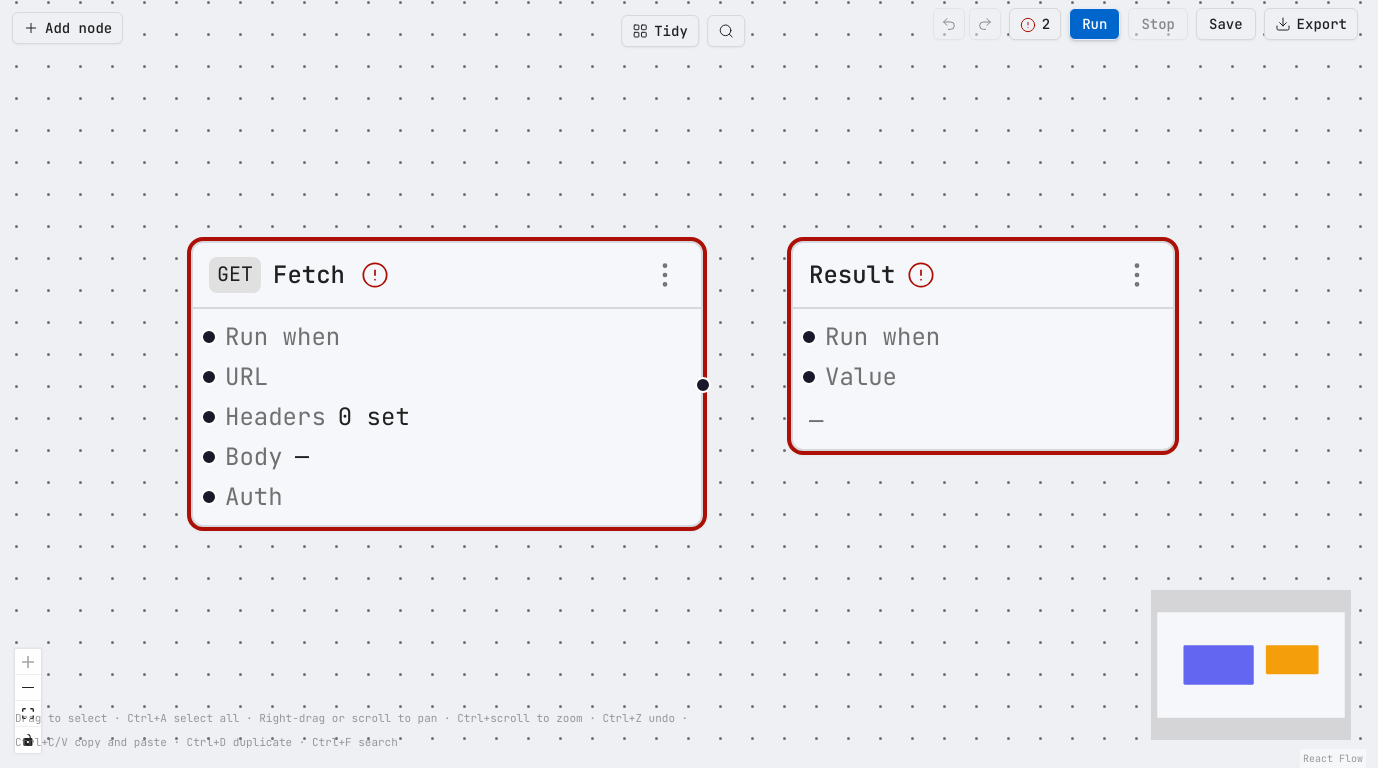
FlowPane run-result wiring › writes the result to the tab that started the run, not the active one
Click the button "Run". click: click(1095, 24)
box: [1069,8,1120,40]
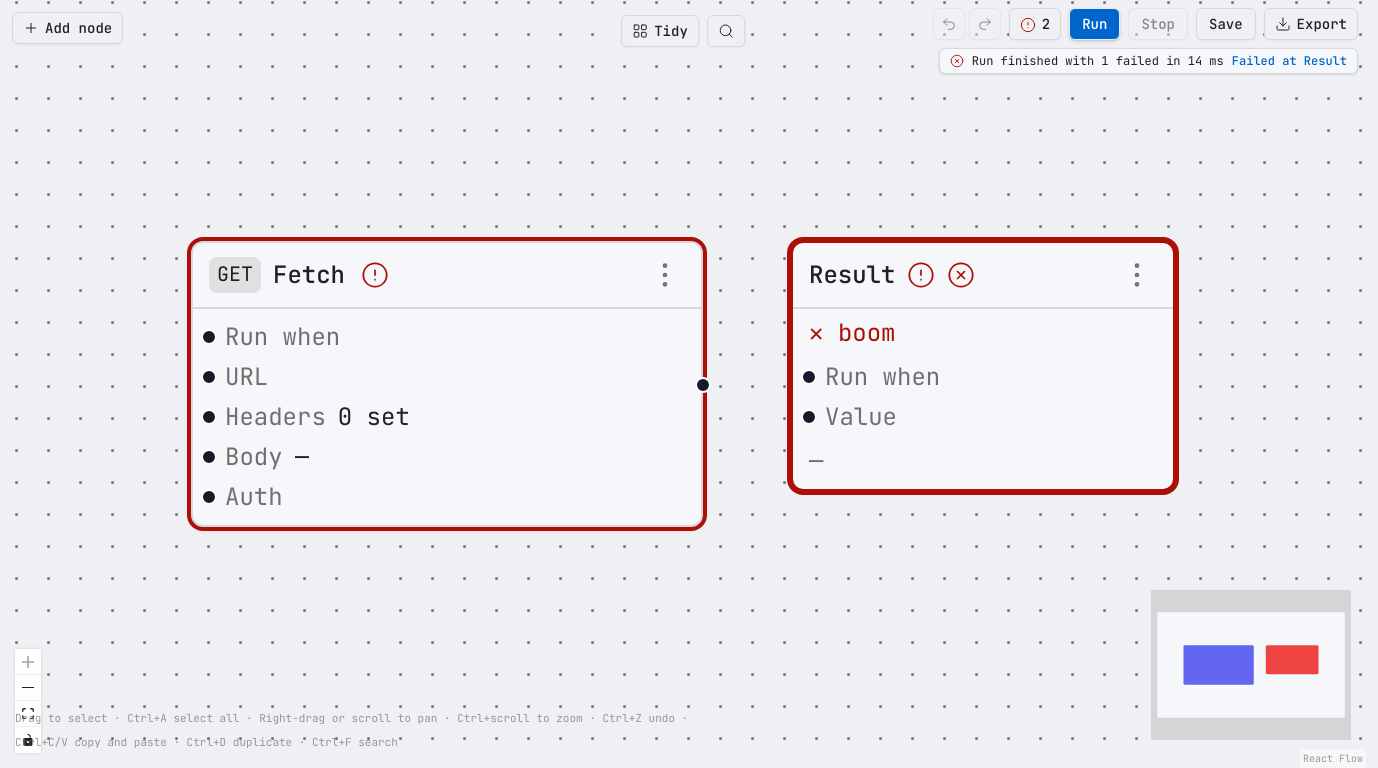
Check: the element with test id "run-result-strip" is shown, box [939,48,1358,74]
